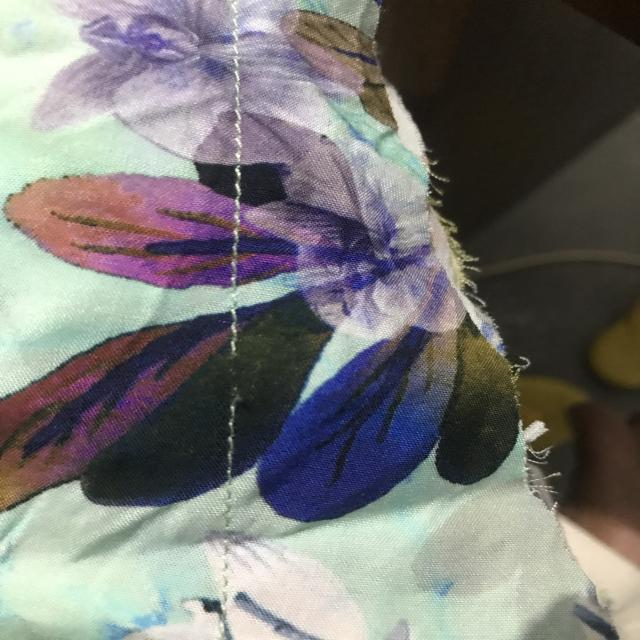broken: (219, 339, 252, 417)
